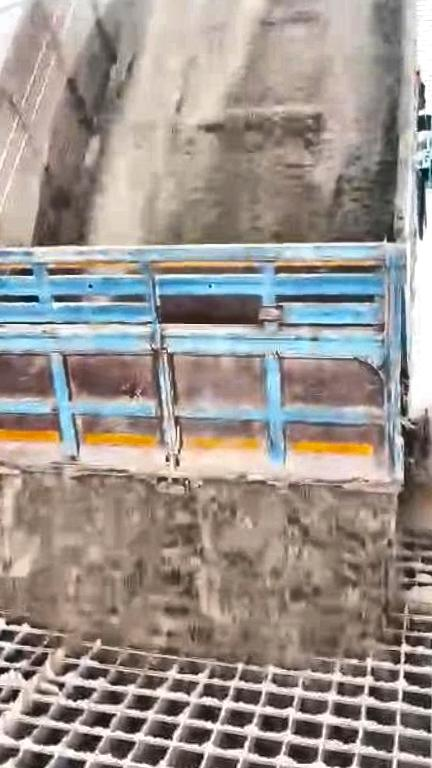sand: (0, 474, 395, 665), (102, 0, 410, 242), (404, 393, 432, 574), (410, 586, 432, 616)
